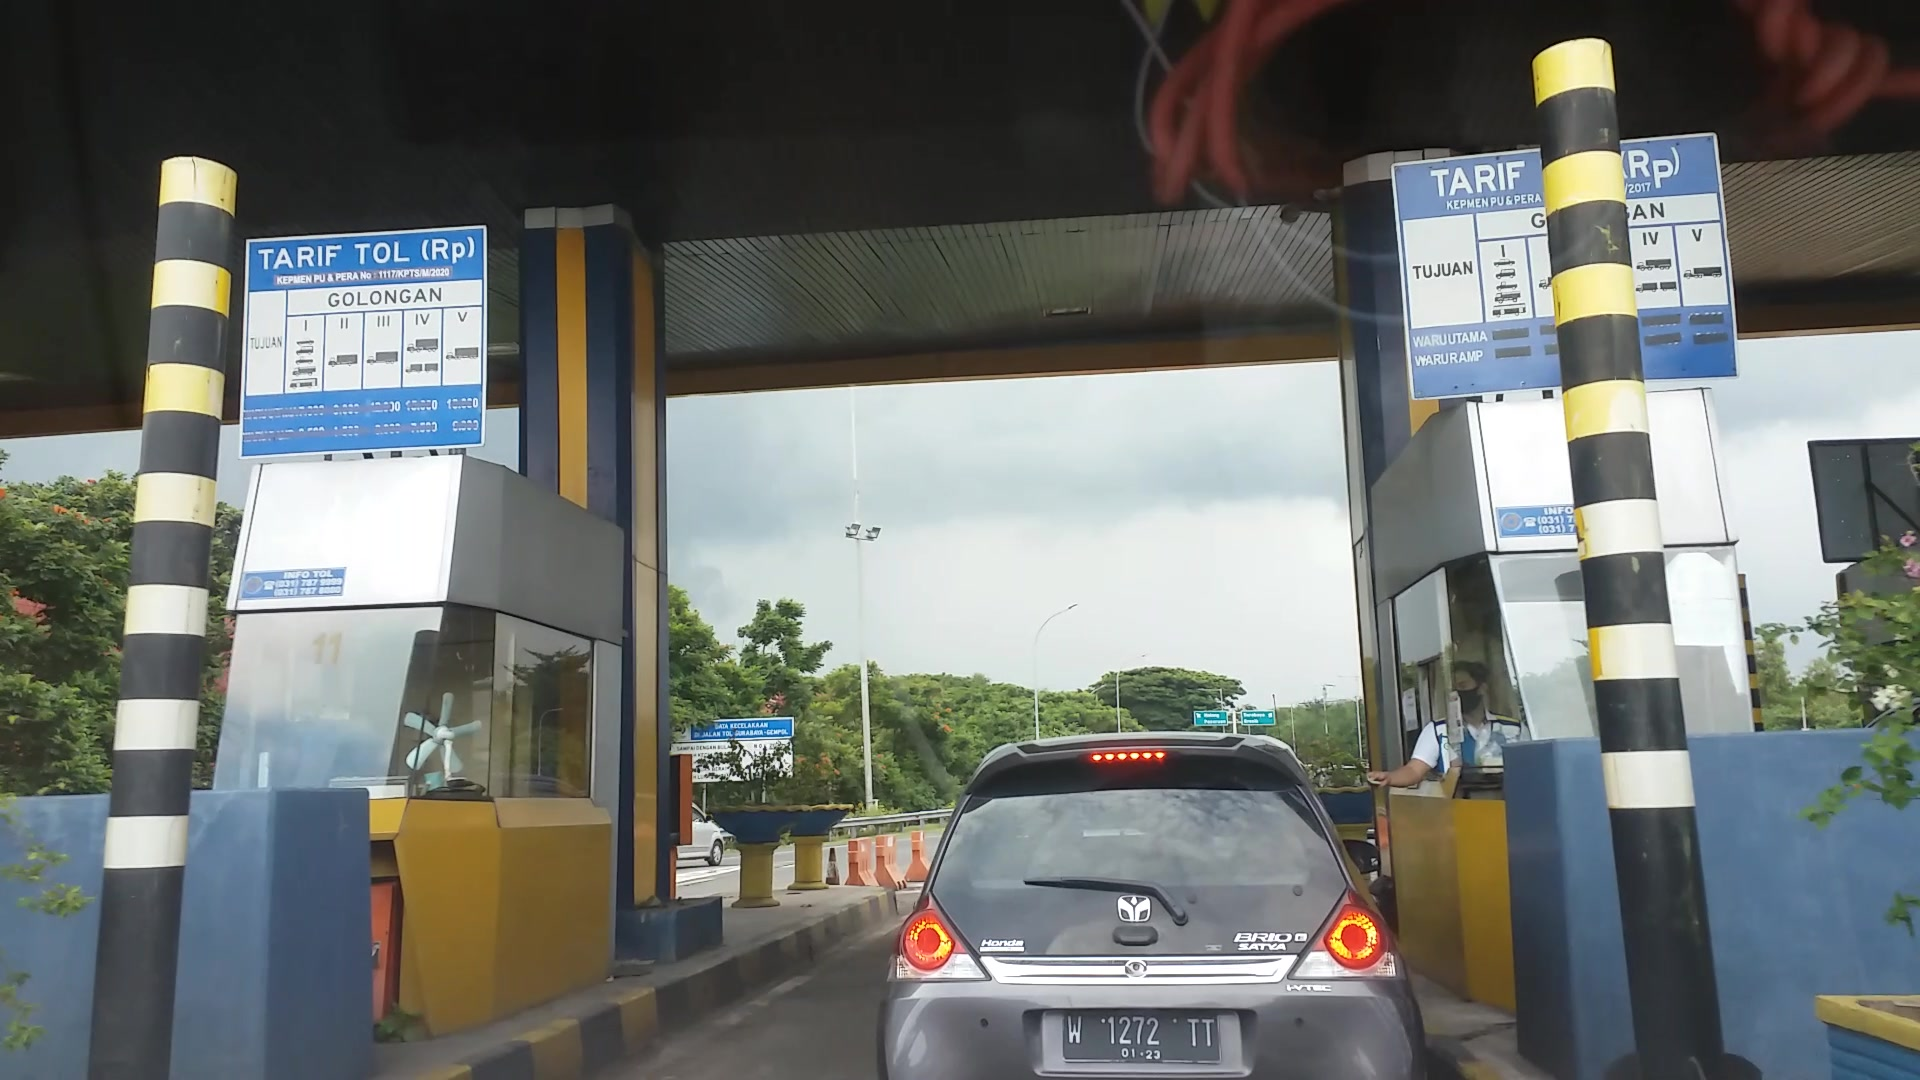plate_positive: (1063, 1007, 1220, 1065)
